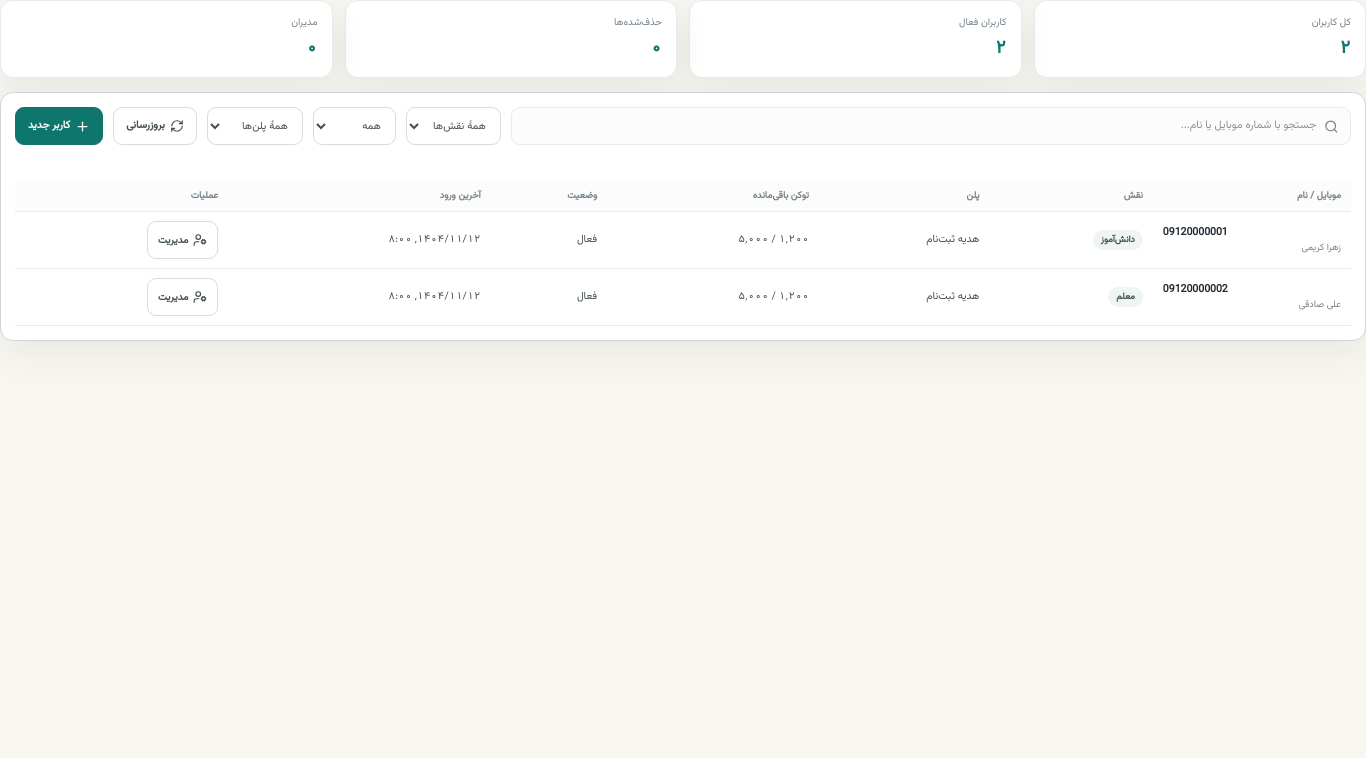
Test: AdminUsersPanel › requires confirmation and re-auth before changing a role, then revokes nothing on the client
Later steps or results of the test are not shown.
Expected: the text "09120000001" is shown, x1=1163 y1=224 x2=1228 y2=241
Click the button "مدیریت" in the row of "09120000001" at [183, 240], box x1=147 y1=221 x2=218 y2=259
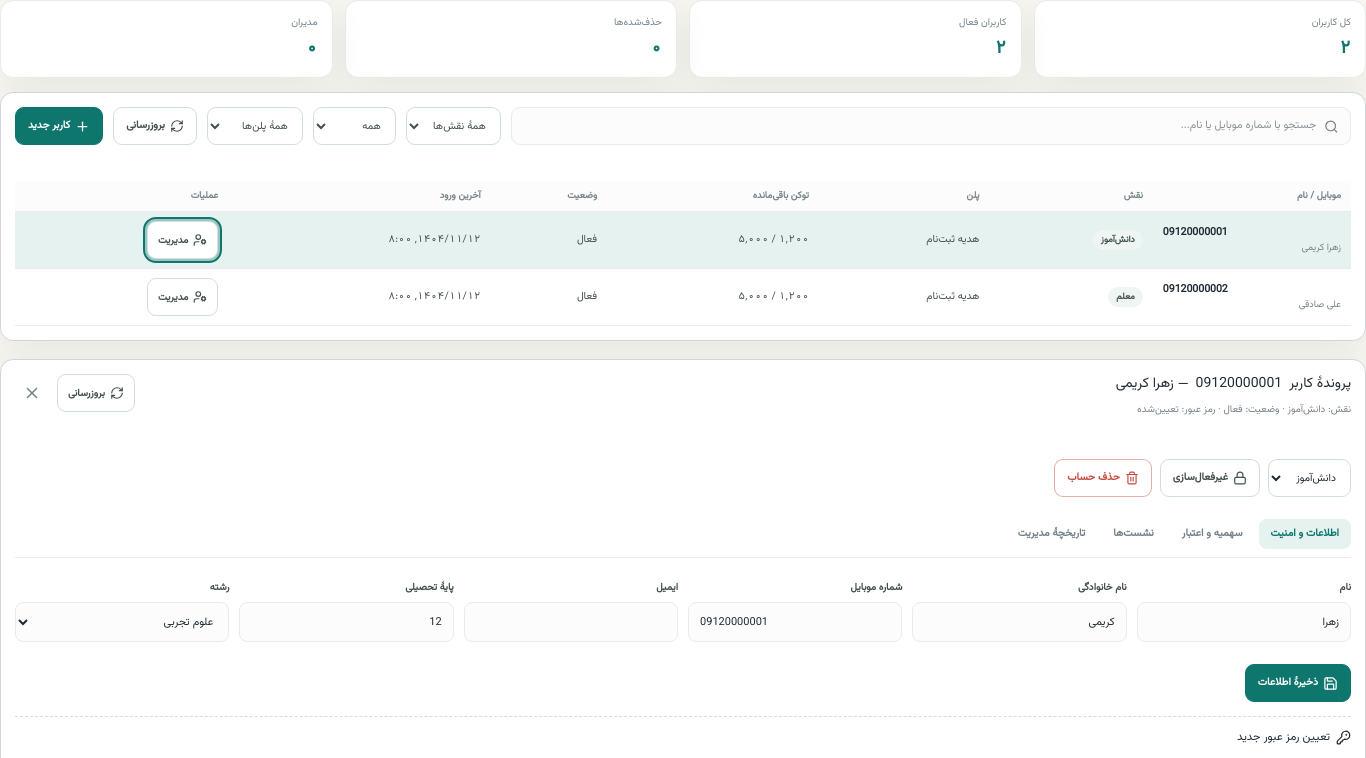
Expected: the heading "پروندهٔ کاربر 09120000001 — زهرا کریمی" is shown, x1=1116 y1=374 x2=1351 y2=395
Select "معلم" in the dropdown named "تغییر نقش" at [1310, 478], box x1=1268 y1=459 x2=1351 y2=497
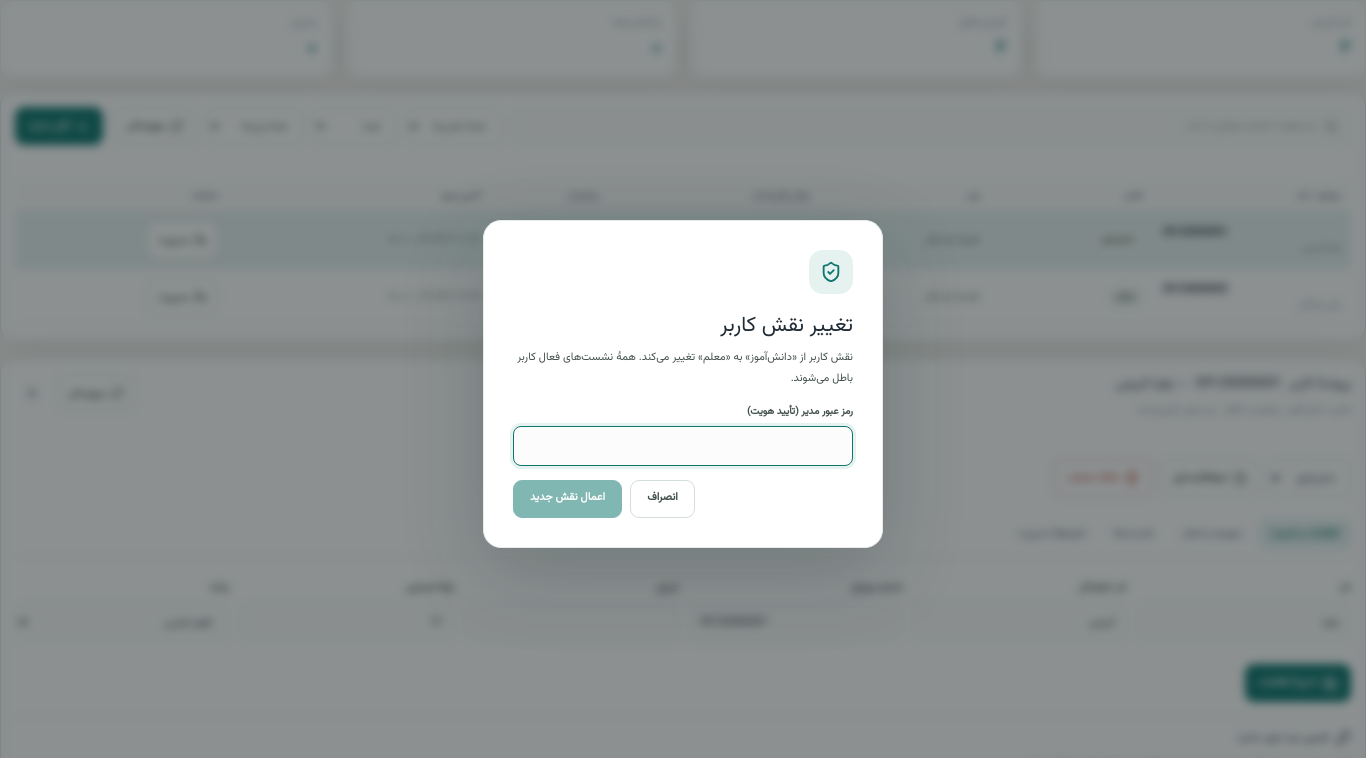
Expected: the heading "تغییر نقش کاربر" is shown, x1=720 y1=309 x2=853 y2=342
Expected: the button "اعمال نقش جدید" is disabled, x1=513 y1=480 x2=622 y2=518
